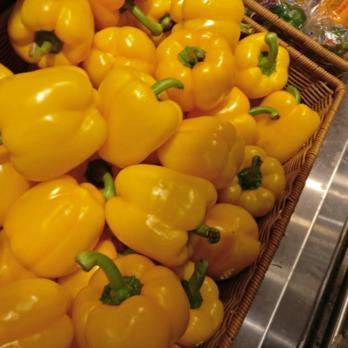Capsicum: (3, 0, 222, 348), (212, 30, 302, 260)
